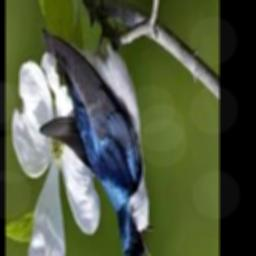Swallow: (39, 22, 154, 256)
